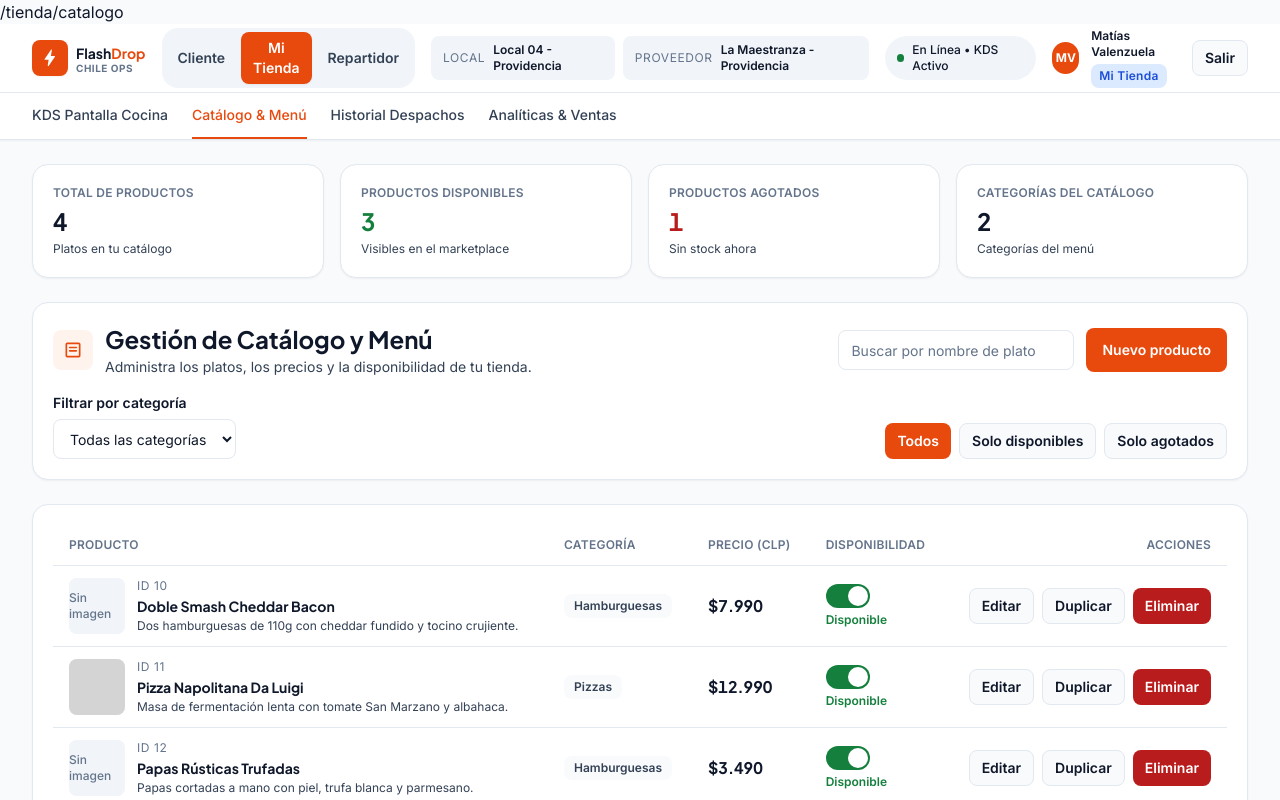
Scenario: store catalog management › shows the literal backend message for an empty product update
Click the button with aria-label "Editar Doble Smash Cheddar Bacon" at (1001, 606), box [969, 588, 1034, 624]
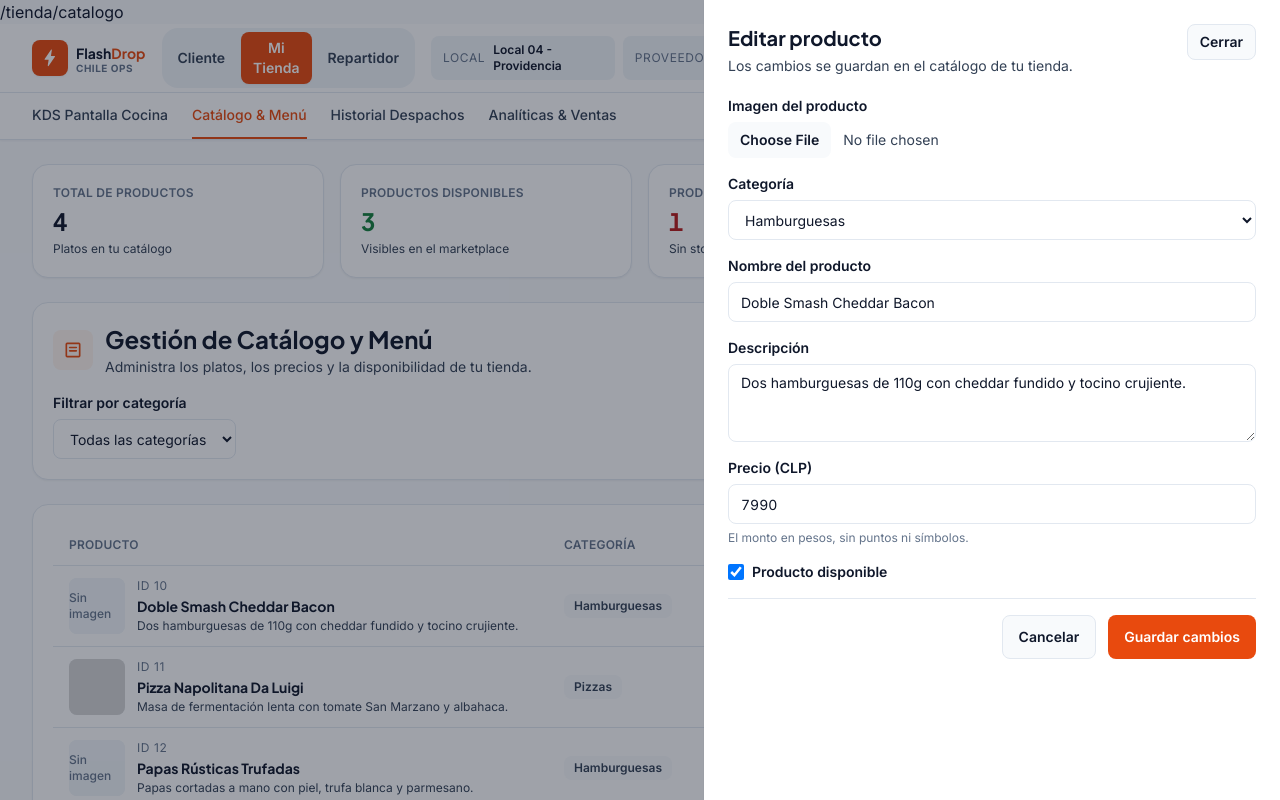
Select "Sin categoría" in the dropdown labelled "Categoría" at (992, 220), box [728, 200, 1256, 240]
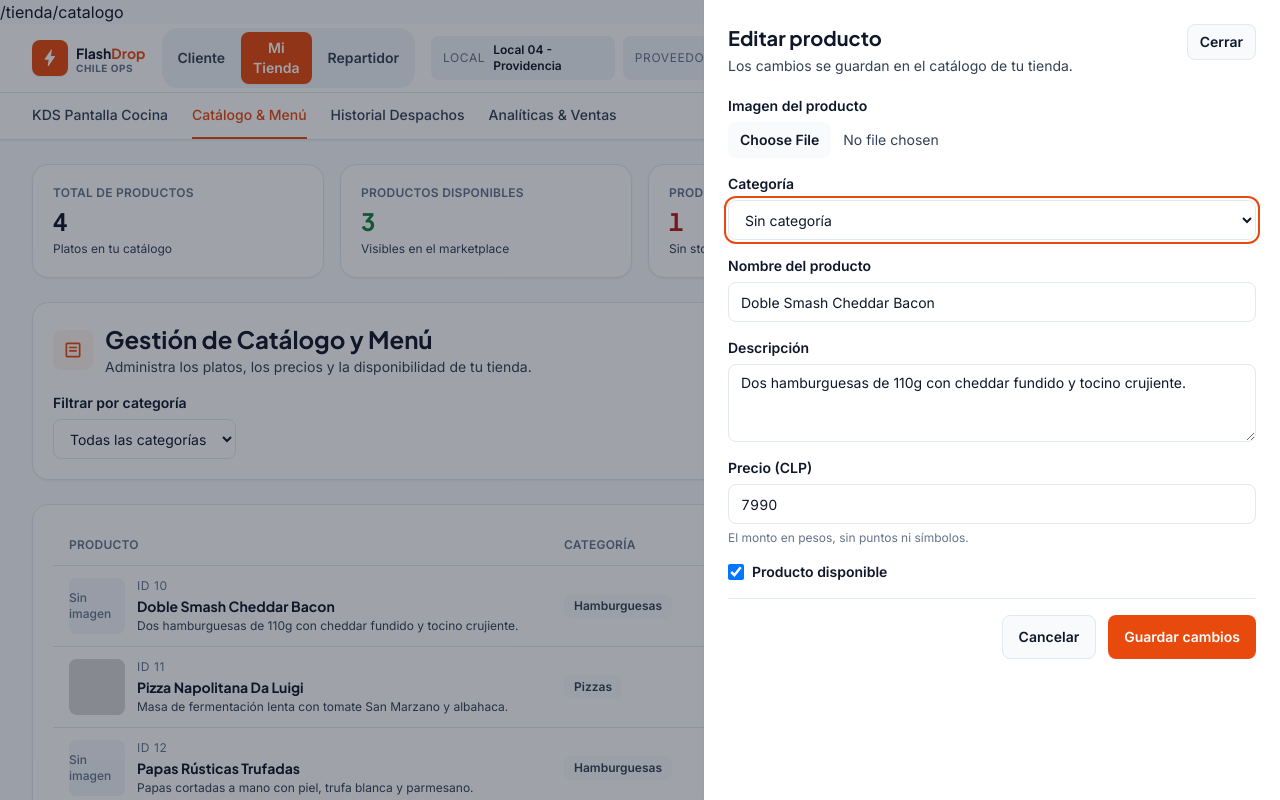
Clear the field labelled "Nombre del producto" at (992, 302), box [728, 282, 1256, 322]
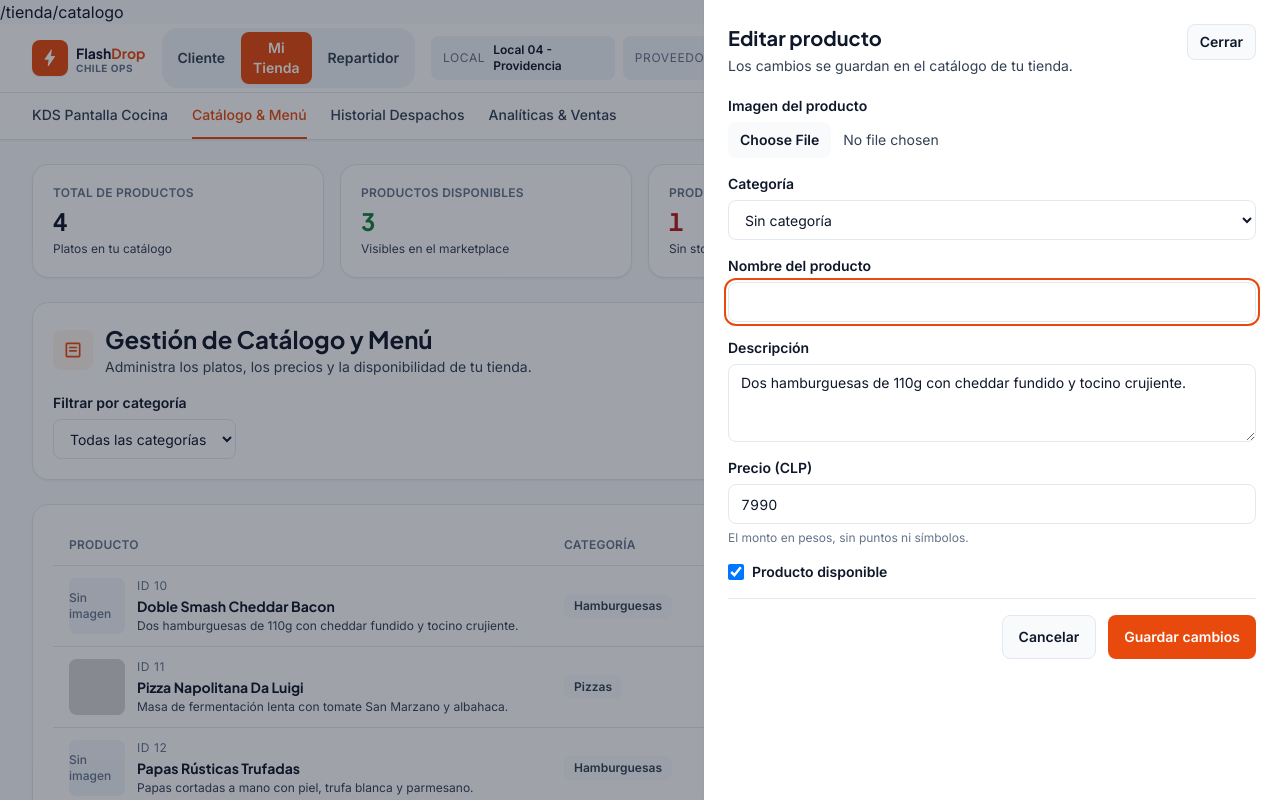
Clear the text box labelled "Descripción" at (992, 403), box [728, 364, 1256, 442]
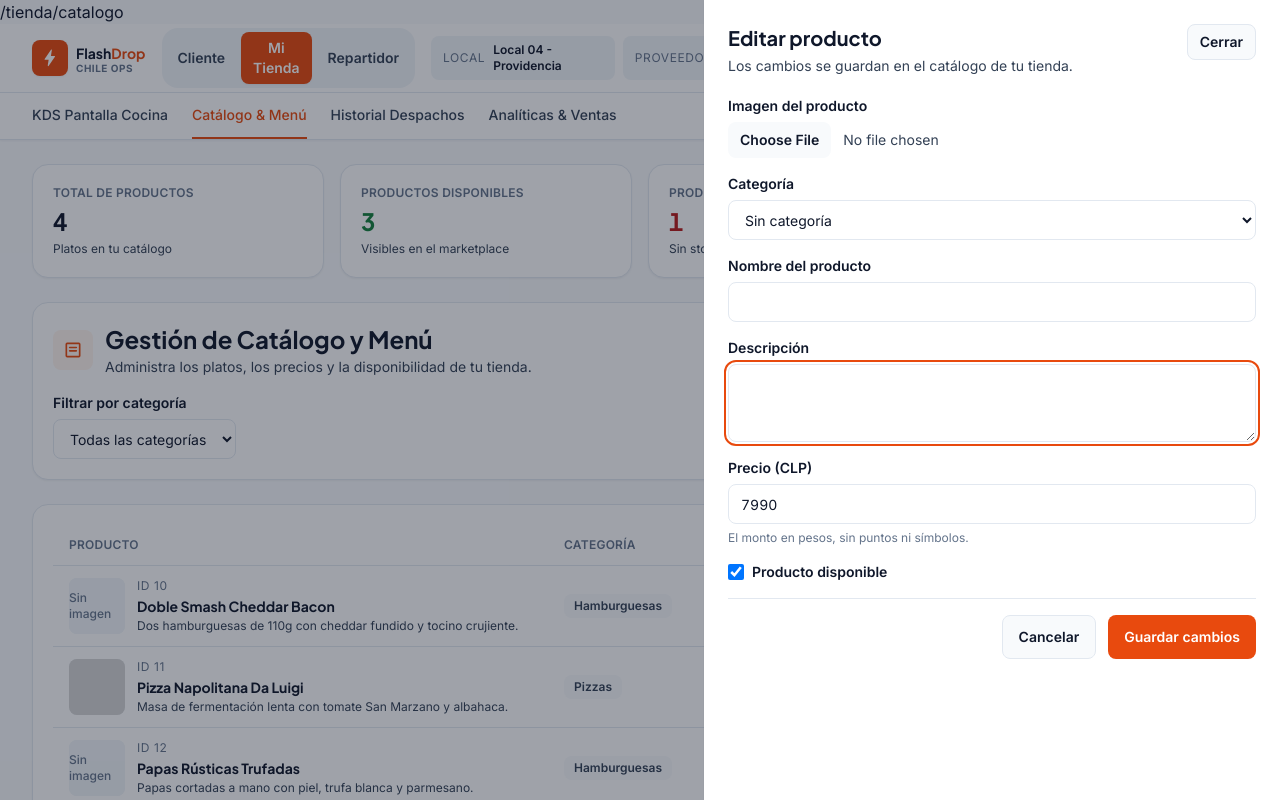
Clear the field labelled "Precio (CLP)" at (992, 504), box [728, 484, 1256, 524]
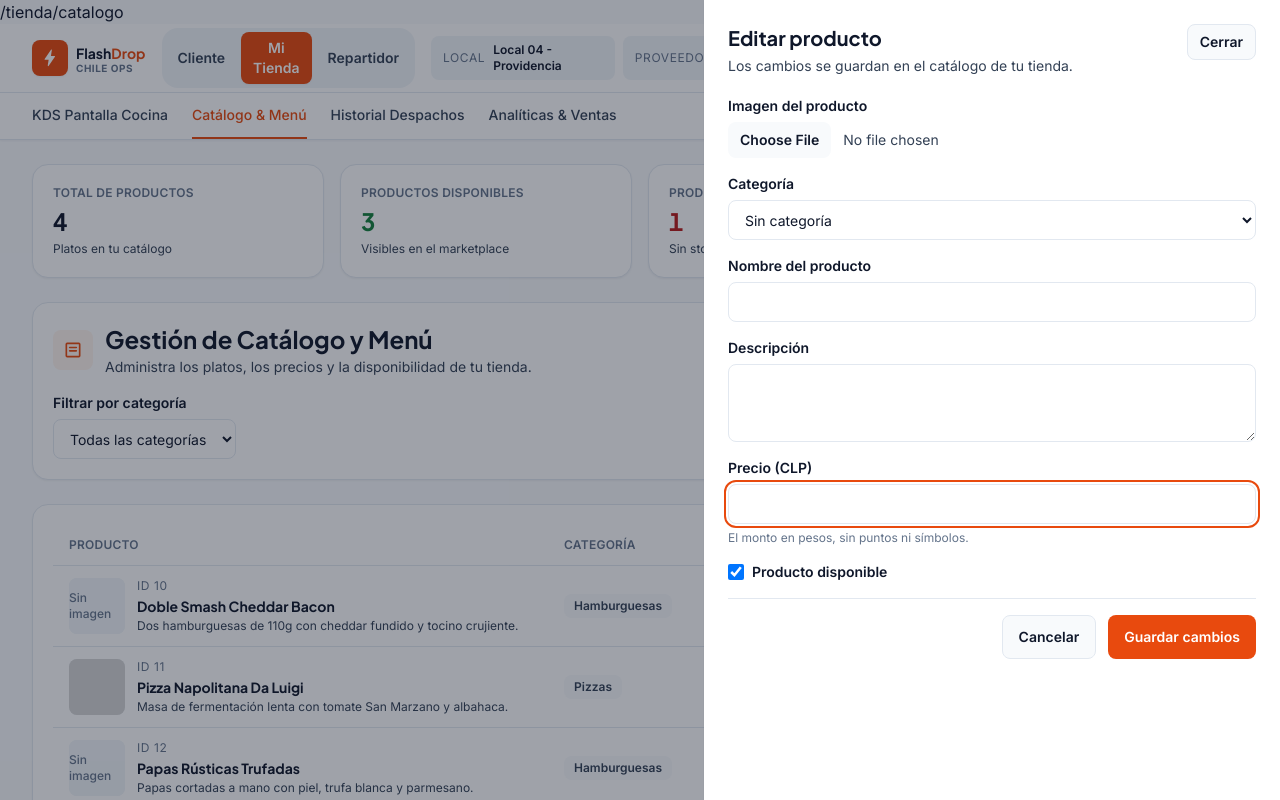
Click the button "Guardar cambios" at (1182, 637), box [1108, 615, 1256, 659]
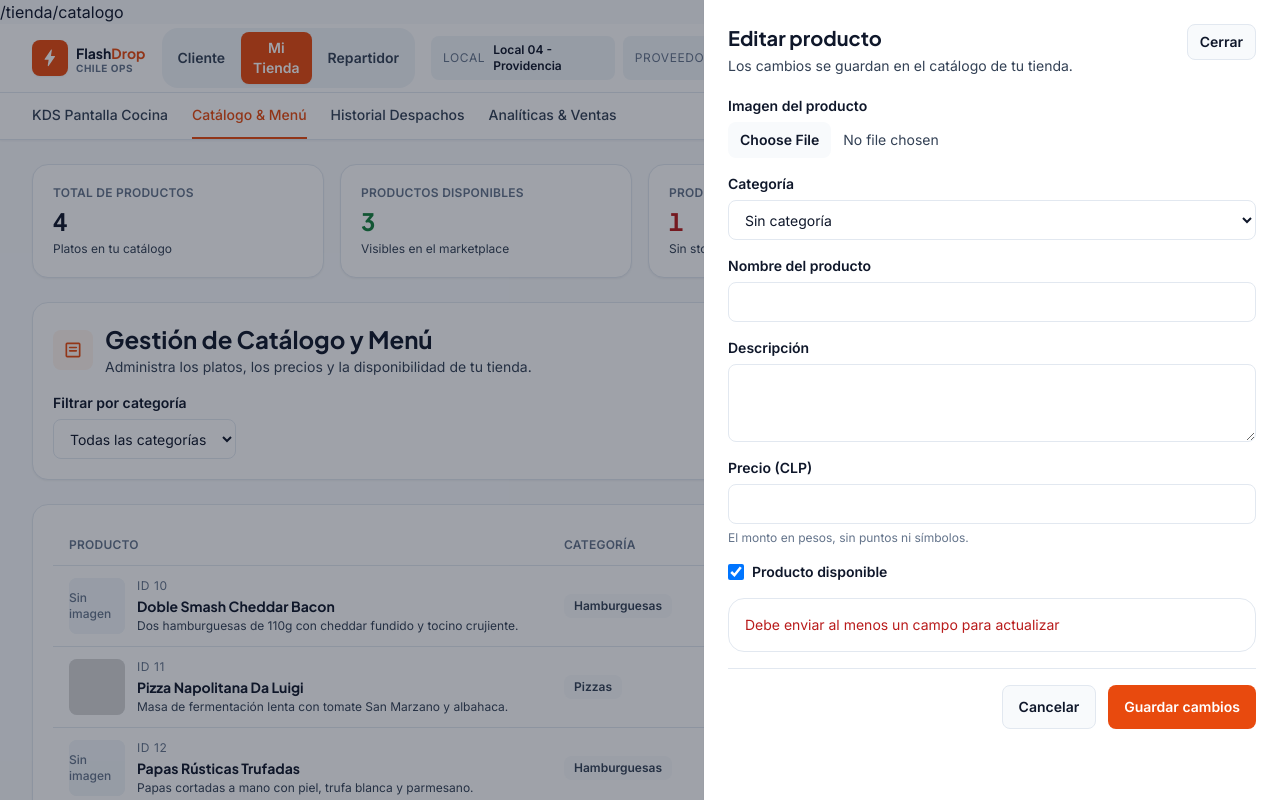
Now the message reads "Debe enviar al menos un campo para actualizar", box [745, 616, 1060, 633]
